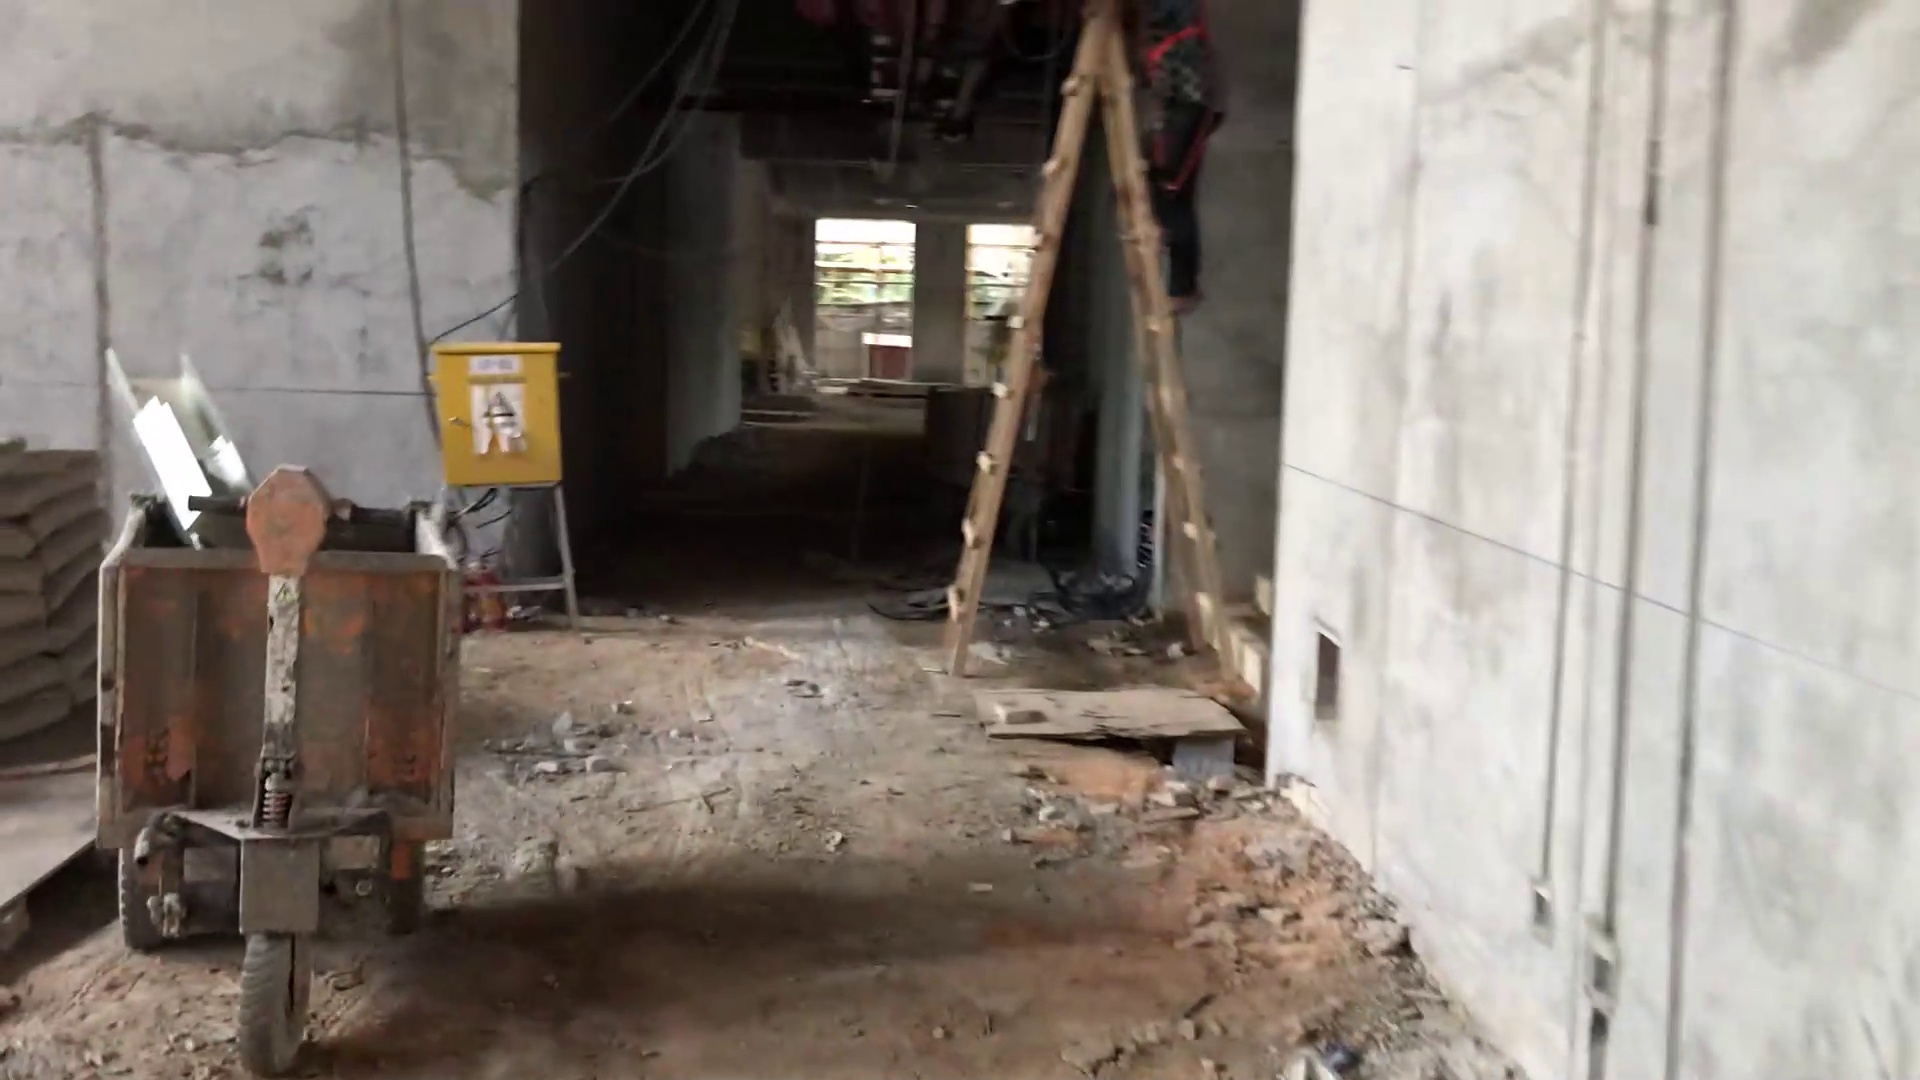ebox: (414, 323, 603, 495)
